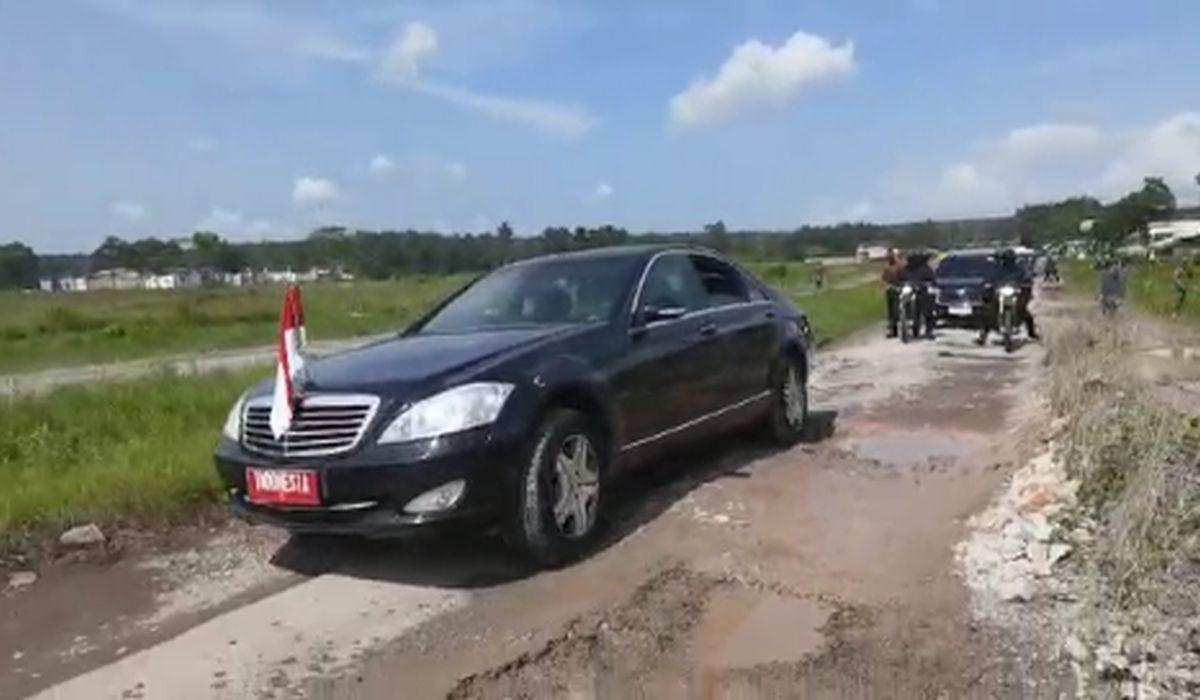Pothole: (433, 575, 944, 700), (793, 351, 1091, 520)
